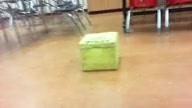cube: (78, 31, 118, 72)
